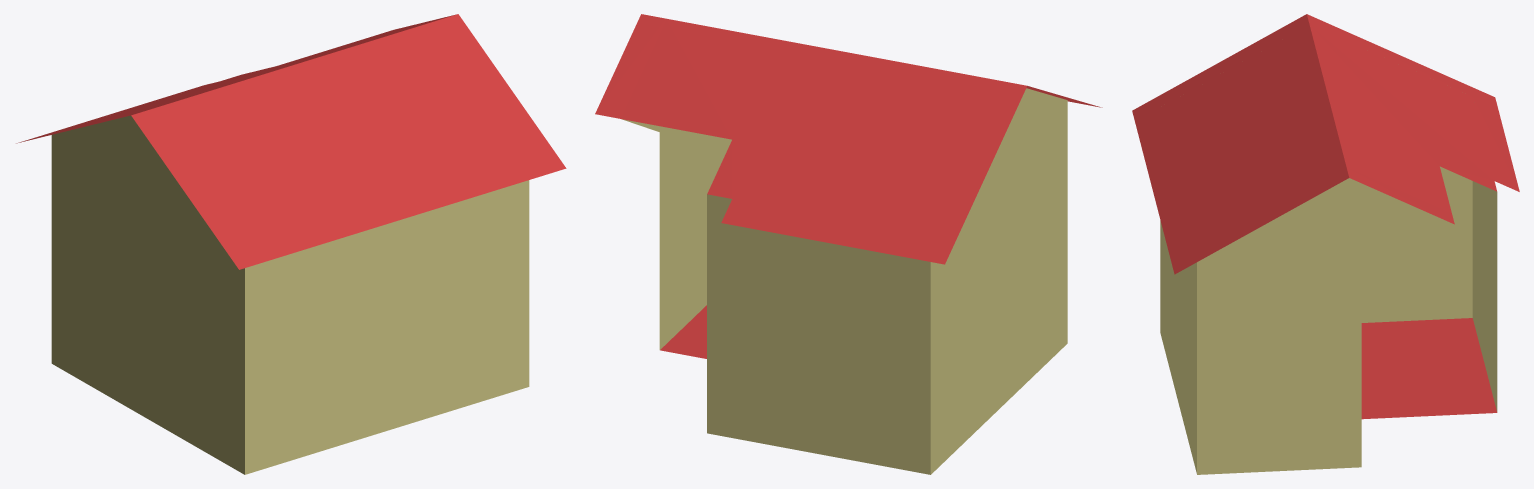
3 renders of one model, left to right at view 1: azimuth 30°, elevation 25°; view 2: azimuth 150°, elevation 25°; view 3: azimuth 270°, elevation 25°, orthographic. The views are drawn at different scales.
Size of the model in its own units: 12.58 by 11.4 by 9.76.
